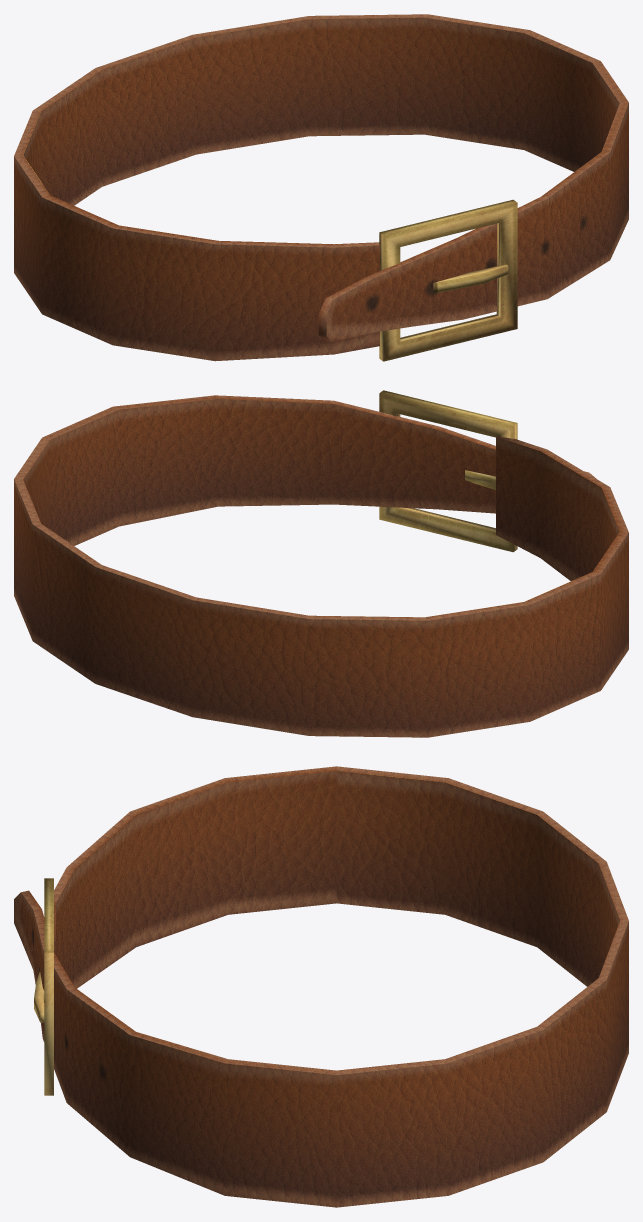
Rendered from basic_belt.glb.
The picture shows the model from 3 angles, top to bottom: view 1: azimuth 30°, elevation 25°; view 2: azimuth 150°, elevation 25°; view 3: azimuth 270°, elevation 25°; orthographic projection. The views are drawn at different scales.
Visible parts, largest first — view 1: Belt; view 2: Belt; view 3: Belt.
Boxes of the visible parts, x1,y1,x2,y2 form: Belt: (14, 14, 628, 361); Belt: (14, 390, 628, 737); Belt: (14, 766, 628, 1207).
Size of the model in its own units: 0.4 by 0.0864 by 0.3366.
Materials: 2 (2 with a texture image).
